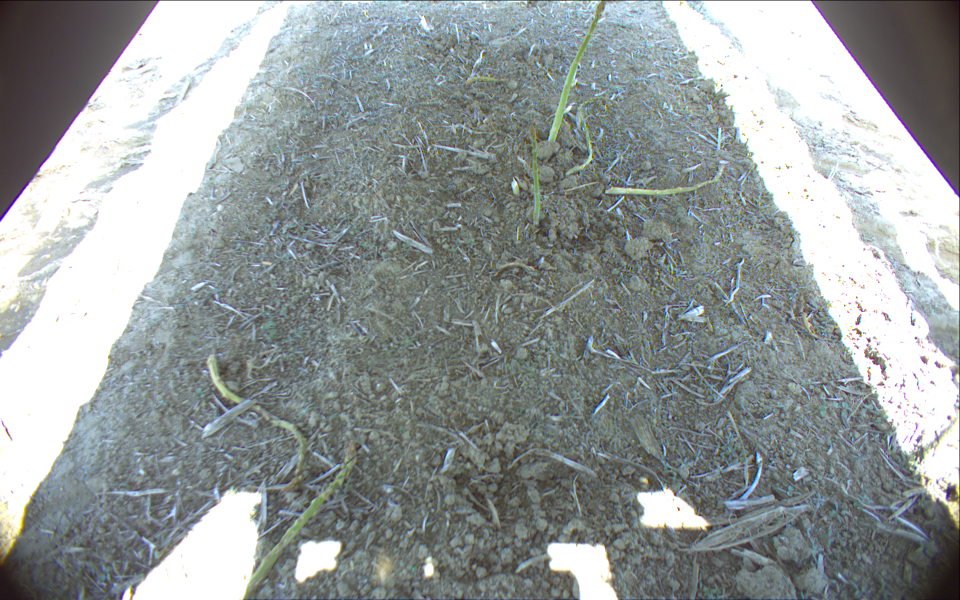aspa: (231, 440, 357, 600), (207, 353, 310, 496), (565, 95, 619, 177), (605, 163, 725, 195), (528, 126, 542, 225), (466, 74, 507, 87)
